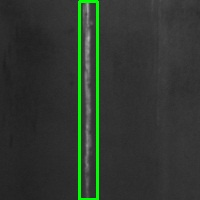scratches: (79, 1, 97, 199)
